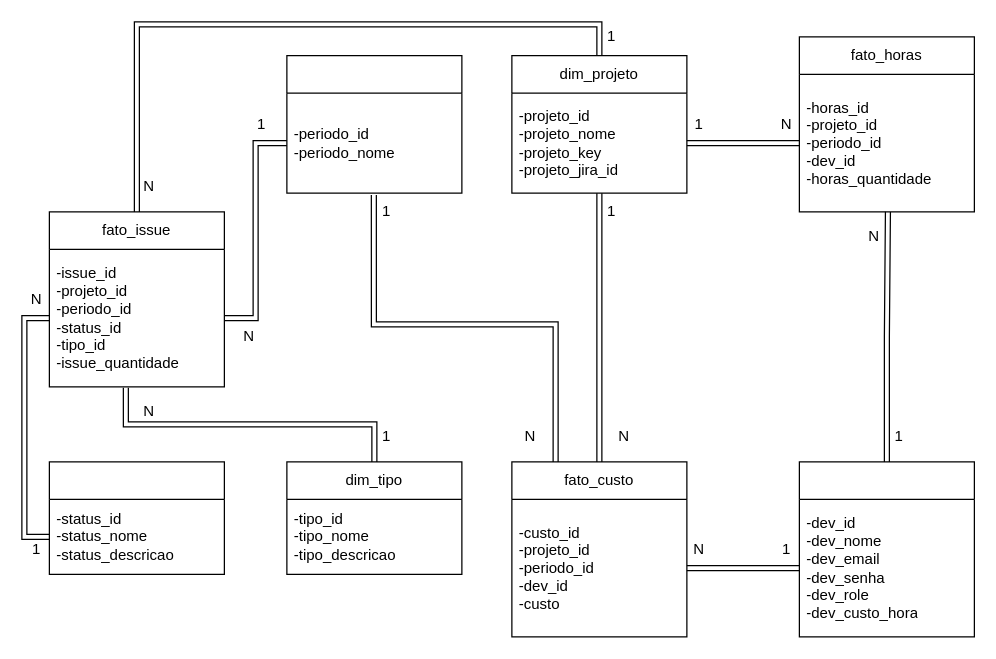
This 996x659 diagram has some shape labels left out. Each missing label, with the box of its shape:
dim_dev: (798, 461, 974, 637)
dim_periodo: (286, 54, 462, 193)
dim_status: (48, 461, 224, 574)
